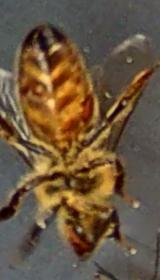varroa_mite: (77, 86, 99, 127)
